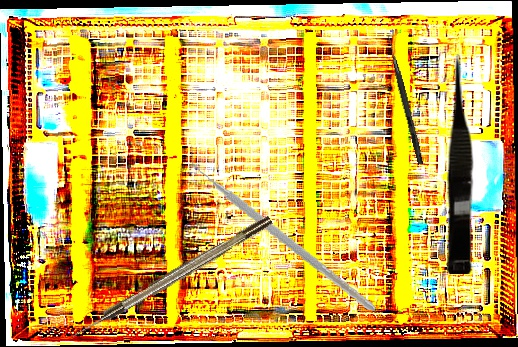Chopper: (174, 145, 392, 311)
Hook Surgical: (68, 214, 275, 342), (383, 34, 426, 165)
Micro Scissor: (447, 54, 477, 274)
